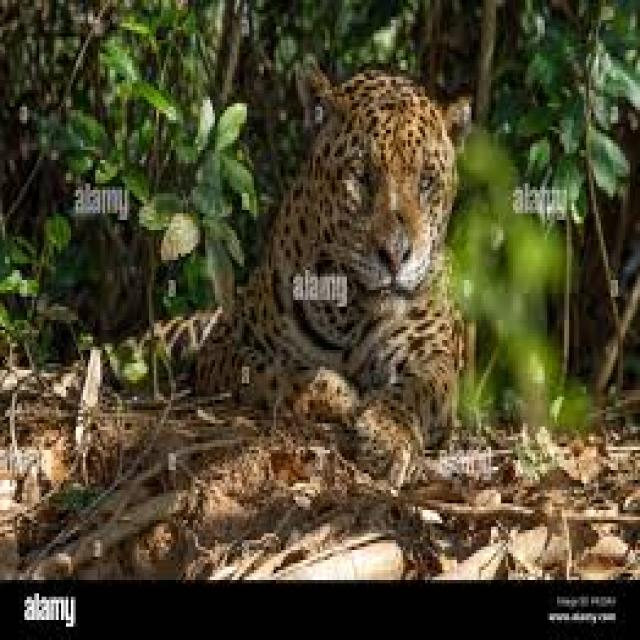Jaguar: (118, 57, 472, 490)
